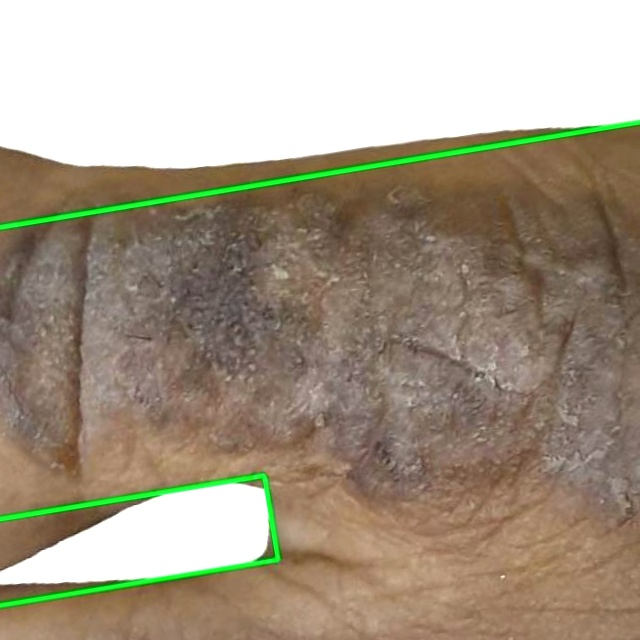Contact Dermatitis: (0, 0, 639, 227), (0, 475, 277, 605)
